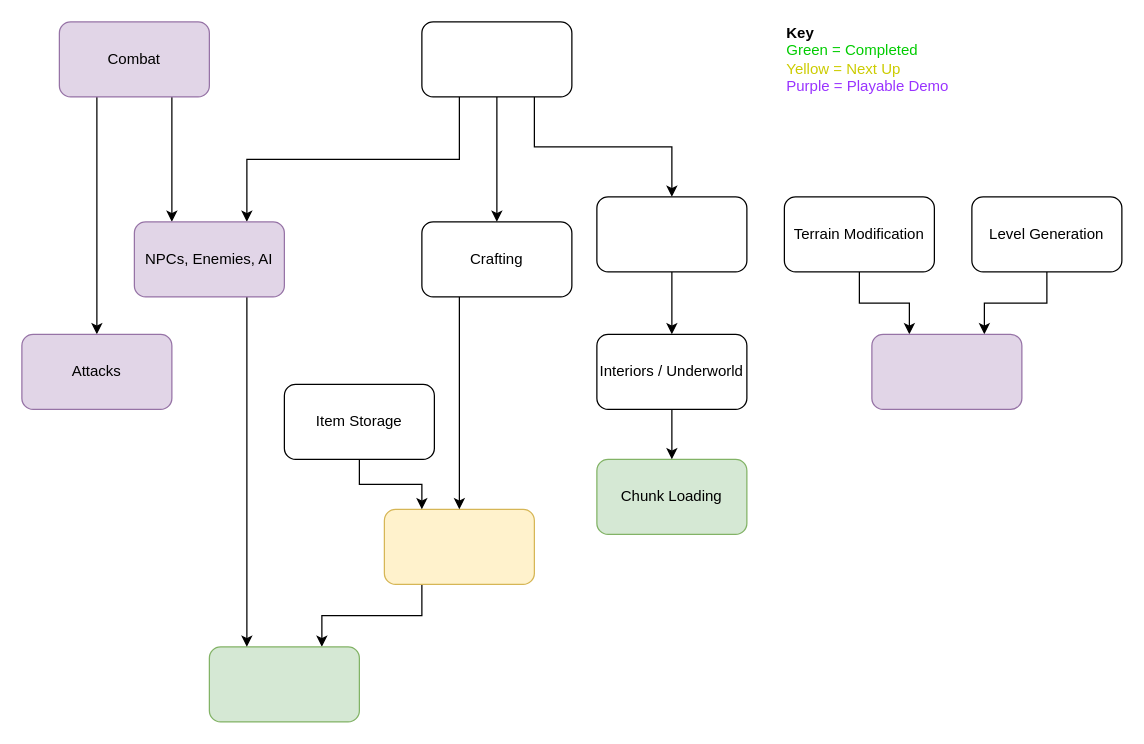
This 1144x744 diagram has some shape labels left out. Here are the shapes that lost their labels. From the top down, the centre of each, then its label:
(496,59): Town / Profession System
(671,234): Houses / Buildings
(946,371): Heightmap / Cliffs / Slopes Ground System
(458,546): Item Handling
(283,684): Live Entities
